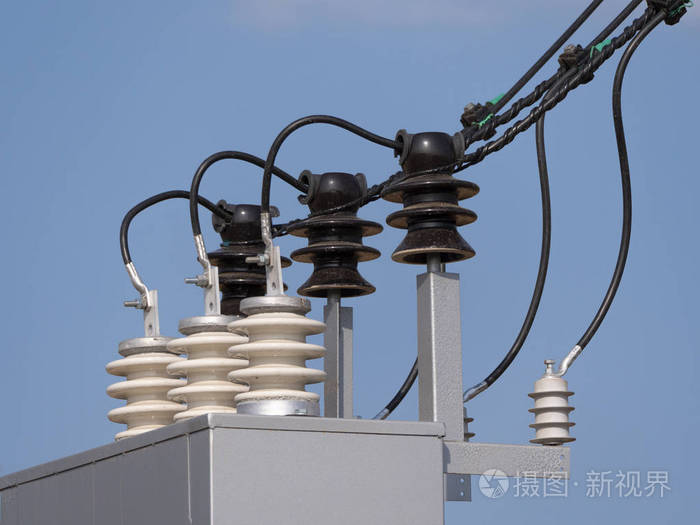insulator: (384, 167, 482, 267), (235, 303, 323, 396), (289, 208, 377, 296), (168, 323, 238, 418), (109, 348, 175, 435), (198, 233, 285, 298), (522, 381, 575, 442)
